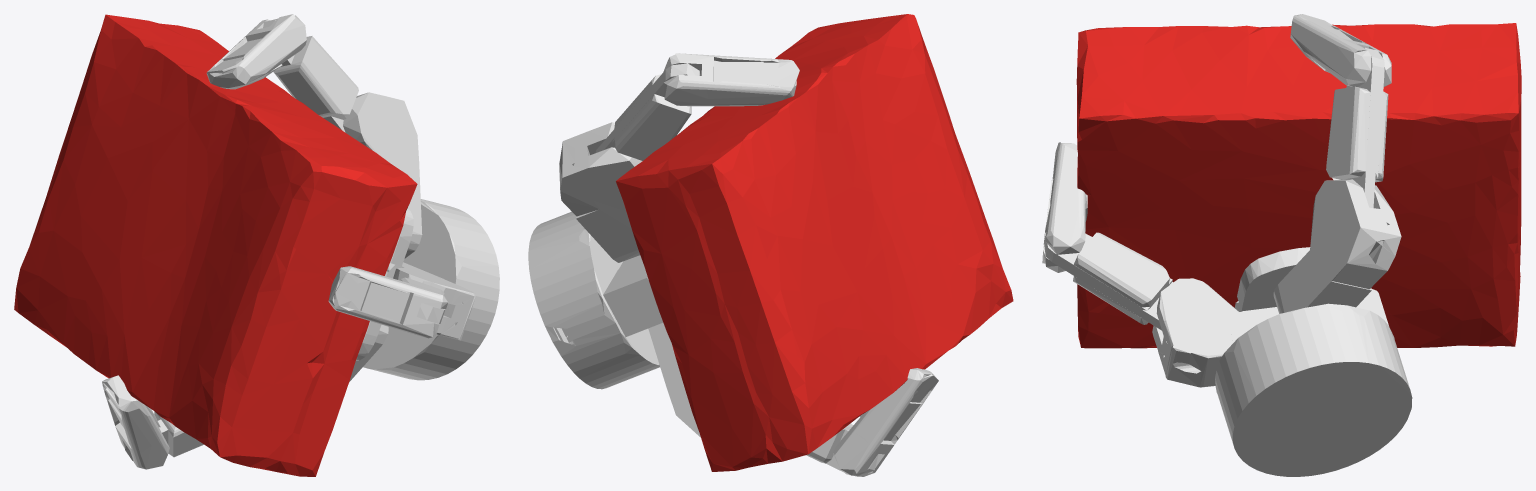
File: graspit_barret_box.glb
3 views of the same model, side by side, from view 1: azimuth 30°, elevation 25°; view 2: azimuth 150°, elevation 25°; view 3: azimuth 270°, elevation 25° (orthographic). The views are drawn at different scales.
Visible parts, largest first — view 1: object_barrett_cracker_box, hand_barrett_cracker_box; view 2: object_barrett_cracker_box, hand_barrett_cracker_box; view 3: object_barrett_cracker_box, hand_barrett_cracker_box.
Part boxes in pixels (x1=…): object_barrett_cracker_box: x1=14, y1=14, x2=417, y2=476; hand_barrett_cracker_box: x1=102, y1=14, x2=499, y2=469; object_barrett_cracker_box: x1=616, y1=14, x2=1013, y2=471; hand_barrett_cracker_box: x1=528, y1=53, x2=938, y2=476; object_barrett_cracker_box: x1=1076, y1=23, x2=1521, y2=348; hand_barrett_cracker_box: x1=1042, y1=14, x2=1412, y2=476.
Size of the model in its own units: 0.2212 by 0.2205 by 0.2296.
